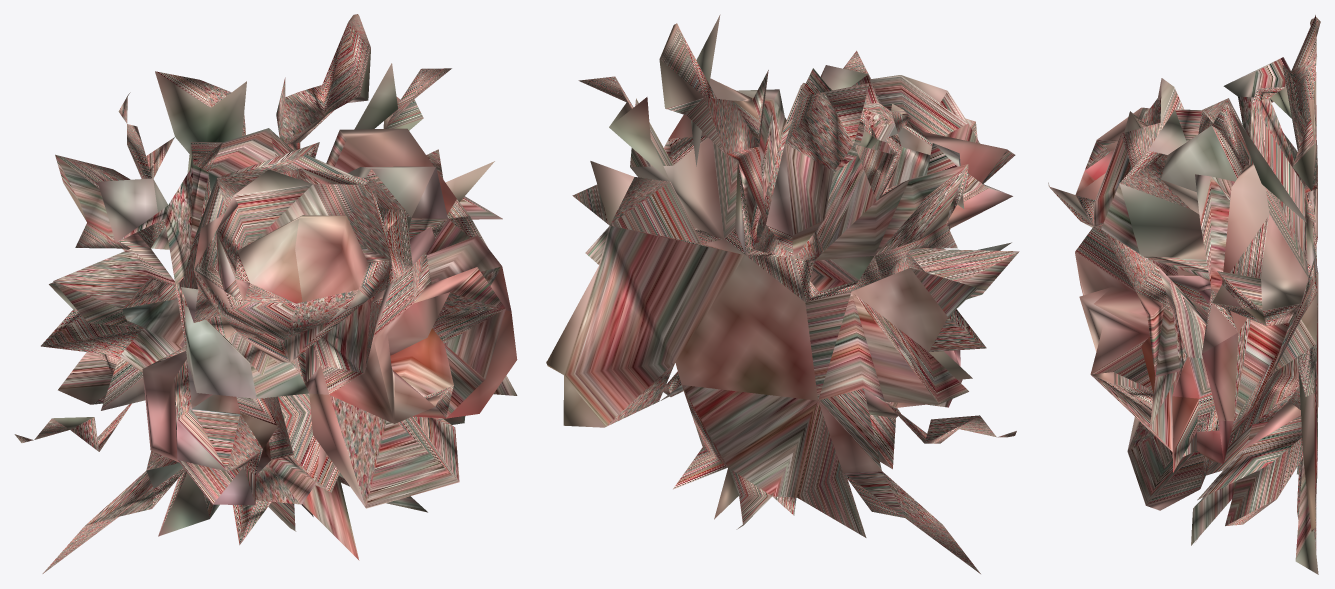
The picture shows the model from 3 angles, left to right: view 1: azimuth 30°, elevation 25°; view 2: azimuth 150°, elevation 25°; view 3: azimuth 270°, elevation 25°; orthographic projection. The views are drawn at different scales.
Visible parts, largest first — view 1: Rose-Bouquet-10-19; view 2: Rose-Bouquet-10-19; view 3: Rose-Bouquet-10-19.
Part boxes in pixels (x1,y1,x2,y2): Rose-Bouquet-10-19: (14, 14, 517, 573); Rose-Bouquet-10-19: (546, 14, 1019, 573); Rose-Bouquet-10-19: (1048, 15, 1320, 574).
Bounding box in the file's own units: 0.2987 × 0.2999 × 0.1516.
Materials: 1 (1 with a texture image).
